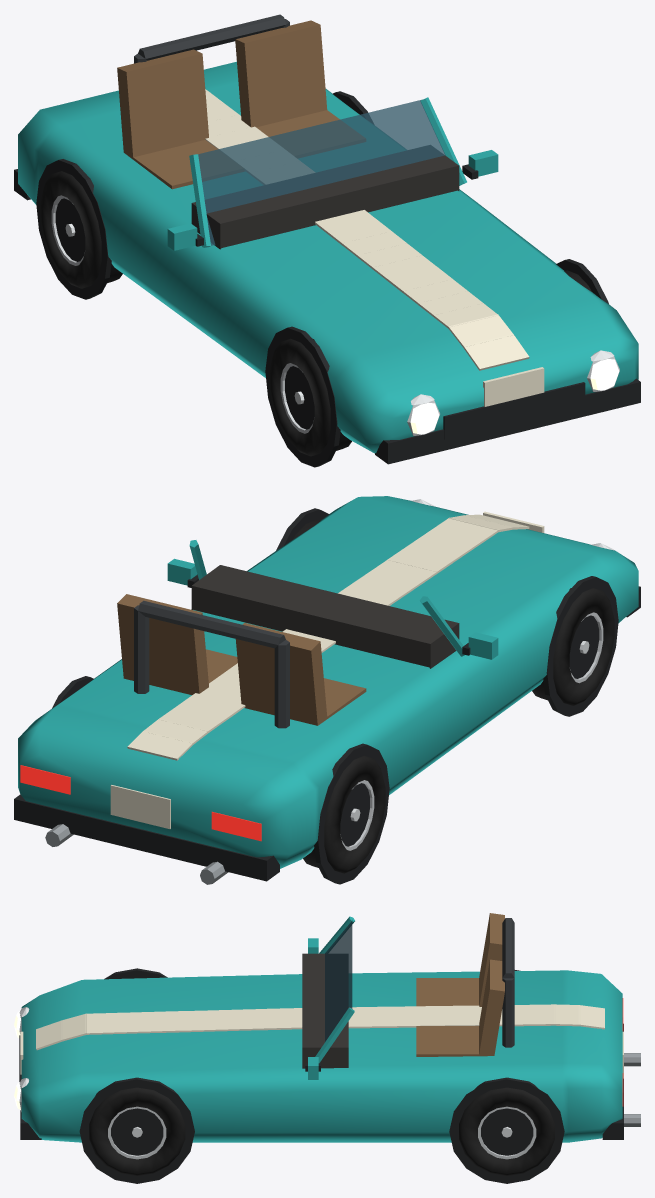
Rendered from sunbeam-roadster.glb.
The picture shows the model from 3 angles, top to bottom: view 1: azimuth 30°, elevation 25°; view 2: azimuth 150°, elevation 25°; view 3: azimuth 270°, elevation 25°; orthographic projection. The views are drawn at different scales.
Visible parts, largest first — view 1: body, wheel_FR, wheel_RR, plate_F, headlight_R, headlight_L; view 2: body, wheel_FR, wheel_RR, plate_R, taillight_R, taillight_L; view 3: body, wheel_FL, wheel_RL.
Boxes of the visible parts, left/top/right/bottom form: body: left=14, top=14, right=640, bottom=467; wheel_FR: left=269, top=338, right=351, bottom=456; wheel_RR: left=40, top=171, right=122, bottom=288; plate_F: left=483, top=367, right=544, bottom=406; headlight_R: left=407, top=394, right=439, bottom=435; headlight_L: left=587, top=350, right=619, bottom=391; body: left=14, top=496, right=640, bottom=884; wheel_FR: left=532, top=588, right=614, bottom=705; wheel_RR: left=303, top=756, right=385, bottom=873; plate_R: left=110, top=785, right=170, bottom=828; taillight_R: left=211, top=811, right=261, bottom=841; taillight_L: left=20, top=765, right=70, bottom=794; body: left=19, top=913, right=623, bottom=1183; wheel_FL: left=89, top=1087, right=185, bottom=1175; wheel_RL: left=459, top=1087, right=554, bottom=1175.
Bounding box in the file's own units: 1.96 × 1.31 × 4.07.
